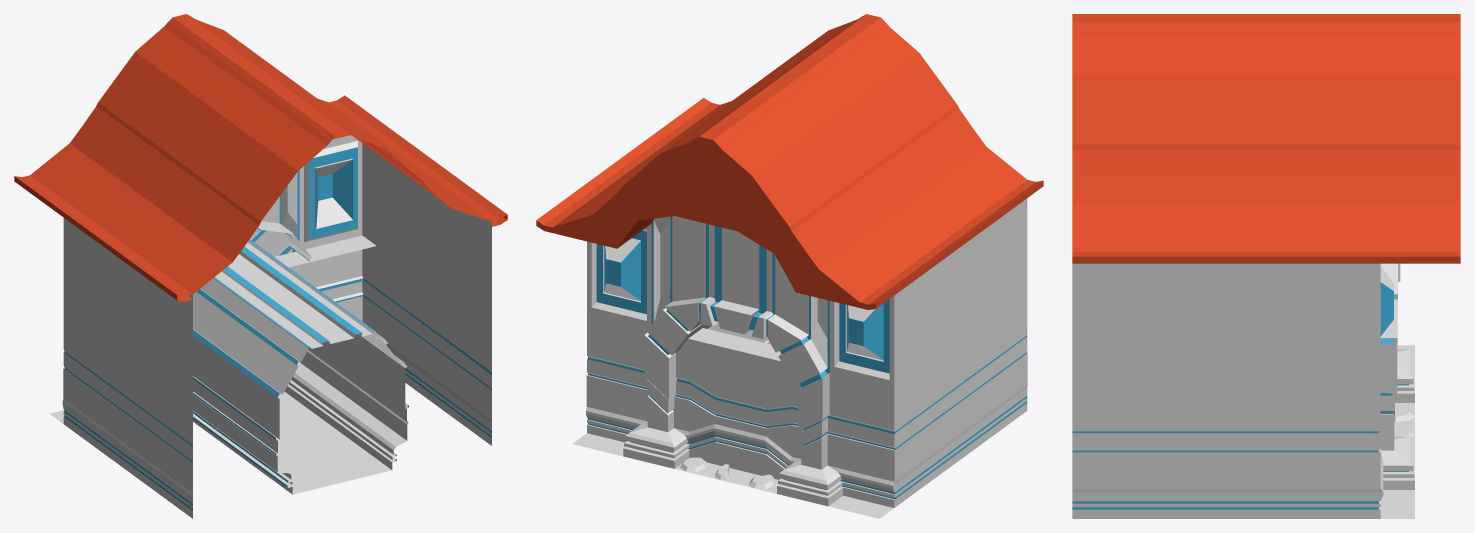
The model's file is HubParts_Church.fbx.
The picture shows the model from 3 angles, left to right: view 1: azimuth 30°, elevation 25°; view 2: azimuth 150°, elevation 25°; view 3: azimuth 270°, elevation 25°; orthographic projection. The views are drawn at different scales.
Parts seen in each view (by area): view 1: BigChurchPart, ChurchGate, CharchWall; view 2: BigChurchPart, ChurchGate, CharchWall, Stones; view 3: BigChurchPart, ChurchGate.
Part boxes in pixels (x1,y1,x2,y2): BigChurchPart: (14,14,507,518); ChurchGate: (49,221,376,423); CharchWall: (274,248,326,275); BigChurchPart: (536,14,1043,507); ChurchGate: (572,297,895,518); CharchWall: (637,326,843,493); Stones: (680,457,774,489); BigChurchPart: (1072,14,1460,518); ChurchGate: (1378,345,1414,518).
Bounding box in the file's own units: 663 × 667 × 567.
